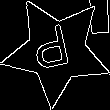P_S: (33, 22, 80, 80)
